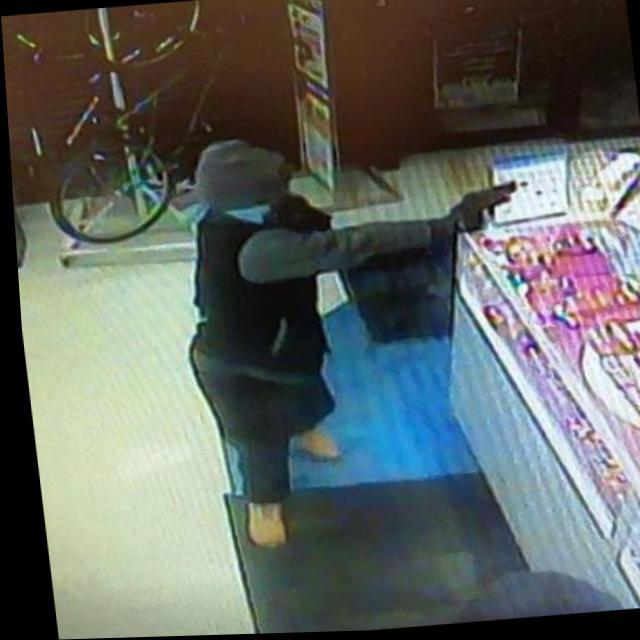weapon: (455, 186, 528, 238)
